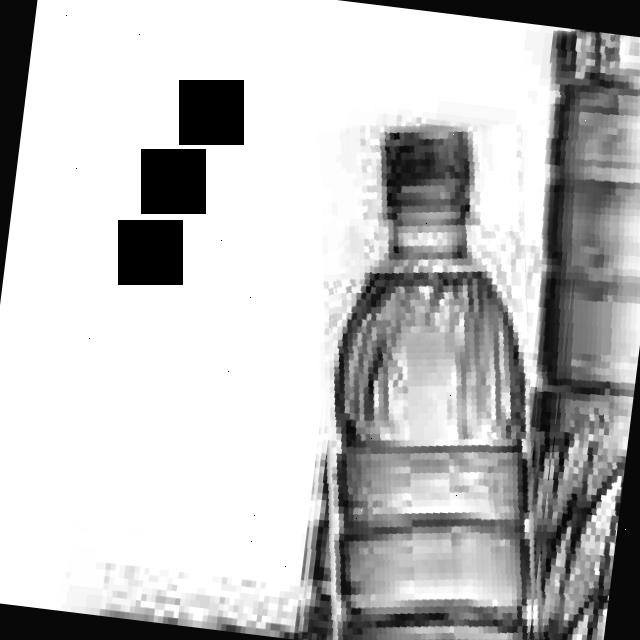bottle: (327, 125, 532, 640), (534, 30, 640, 640)
